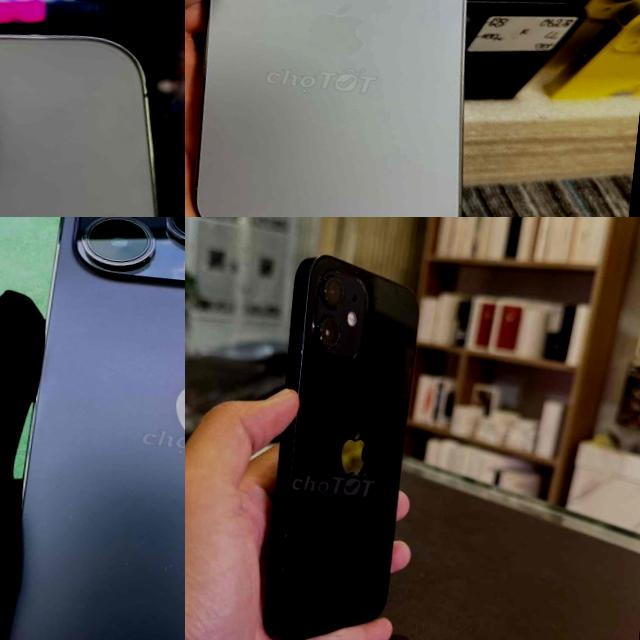gen_12_13: (251, 246, 432, 640), (185, 0, 499, 217), (0, 1, 185, 217)
gen_14: (0, 217, 185, 640)
